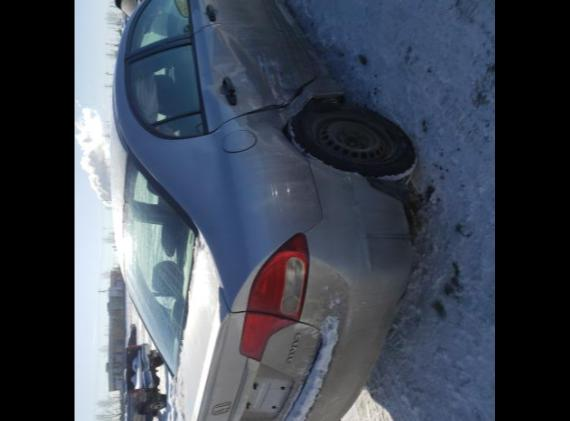Broken part: (232, 72, 320, 116), (280, 112, 324, 162)
Dent: (209, 24, 314, 116), (244, 86, 312, 148)
Scratch: (246, 48, 310, 124)
